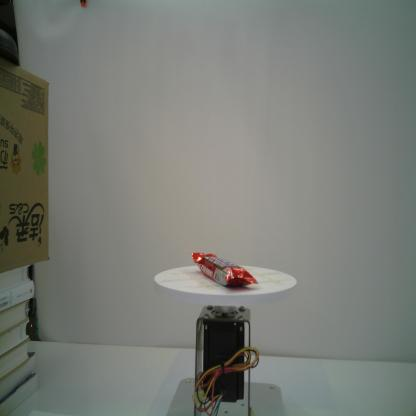Chocolate: (188, 249, 259, 287)
